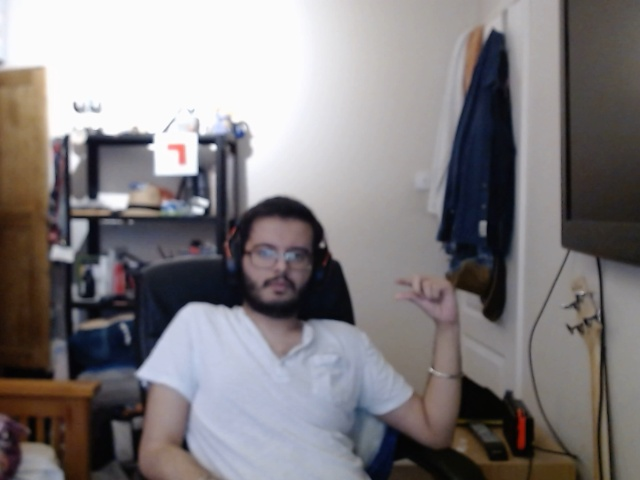Small: (382, 277, 463, 327)
